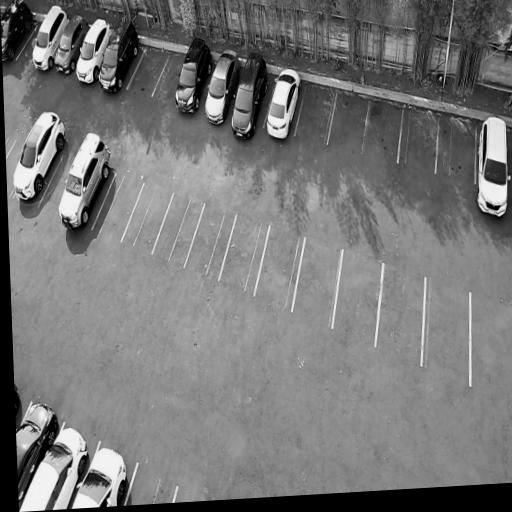Car: (19, 409, 96, 510), (54, 124, 117, 235), (7, 102, 72, 207), (16, 390, 66, 510), (65, 438, 134, 509), (227, 45, 273, 144), (169, 31, 217, 119), (95, 11, 144, 96), (200, 40, 245, 130), (476, 114, 512, 224), (261, 58, 306, 144), (73, 10, 116, 87), (29, 1, 72, 73), (52, 10, 91, 77), (1, 0, 37, 69)
Space Available: (422, 276, 471, 385), (376, 265, 426, 364), (333, 249, 383, 346), (292, 237, 342, 327), (254, 225, 305, 312), (184, 203, 237, 280), (152, 194, 205, 268), (220, 214, 269, 294), (122, 182, 173, 254), (92, 172, 144, 240), (435, 115, 476, 182), (398, 108, 439, 171), (328, 92, 370, 153), (363, 101, 403, 163), (295, 84, 336, 143), (125, 463, 177, 506), (127, 45, 170, 96), (38, 154, 74, 211), (152, 54, 185, 101), (17, 20, 43, 61), (6, 136, 23, 193)
